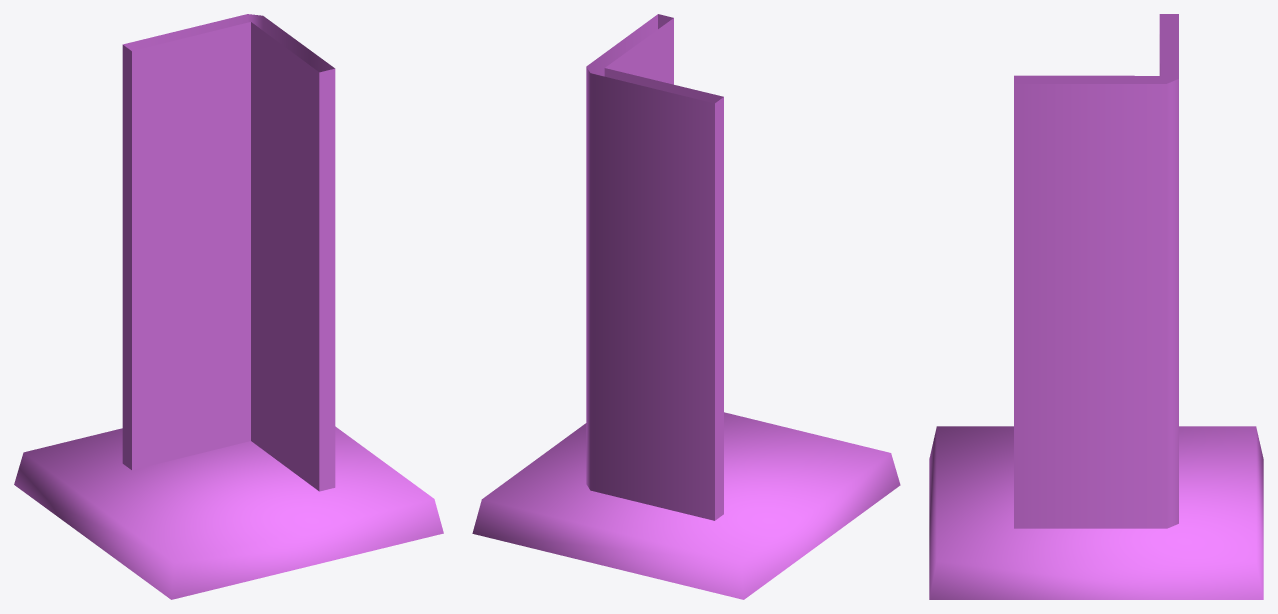
File: Unity_Cloumn2.fbx
The picture shows the model from 3 angles, left to right: view 1: azimuth 30°, elevation 25°; view 2: azimuth 150°, elevation 25°; view 3: azimuth 270°, elevation 25°; orthographic projection. The views are drawn at different scales.
Visible parts, largest first — view 1: Object895.001; view 2: Object895.001; view 3: Object895.001.
Boxes of the visible parts, x1,y1,x2,y2 form: Object895.001: (14, 14, 443, 599); Object895.001: (472, 14, 900, 599); Object895.001: (929, 14, 1263, 599).
Size of the model in its own units: 0.1412 by 0.224 by 0.1412.
